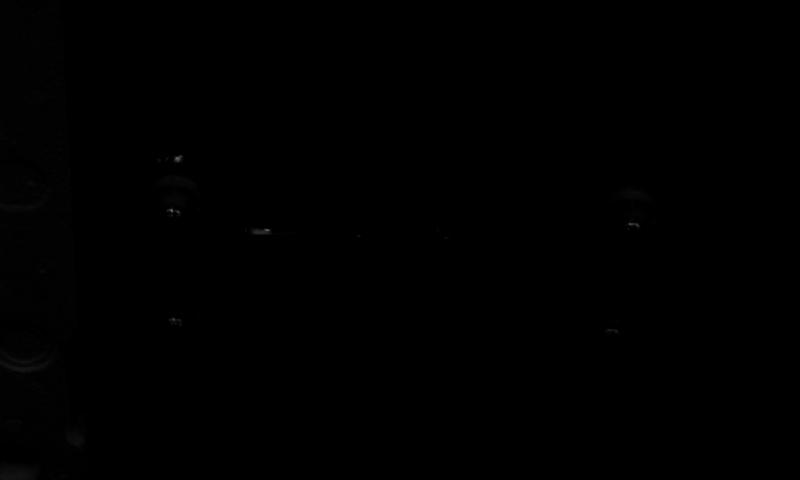vida-ok: (607, 212, 653, 257), (591, 318, 631, 360), (152, 310, 192, 348), (154, 202, 190, 241)
